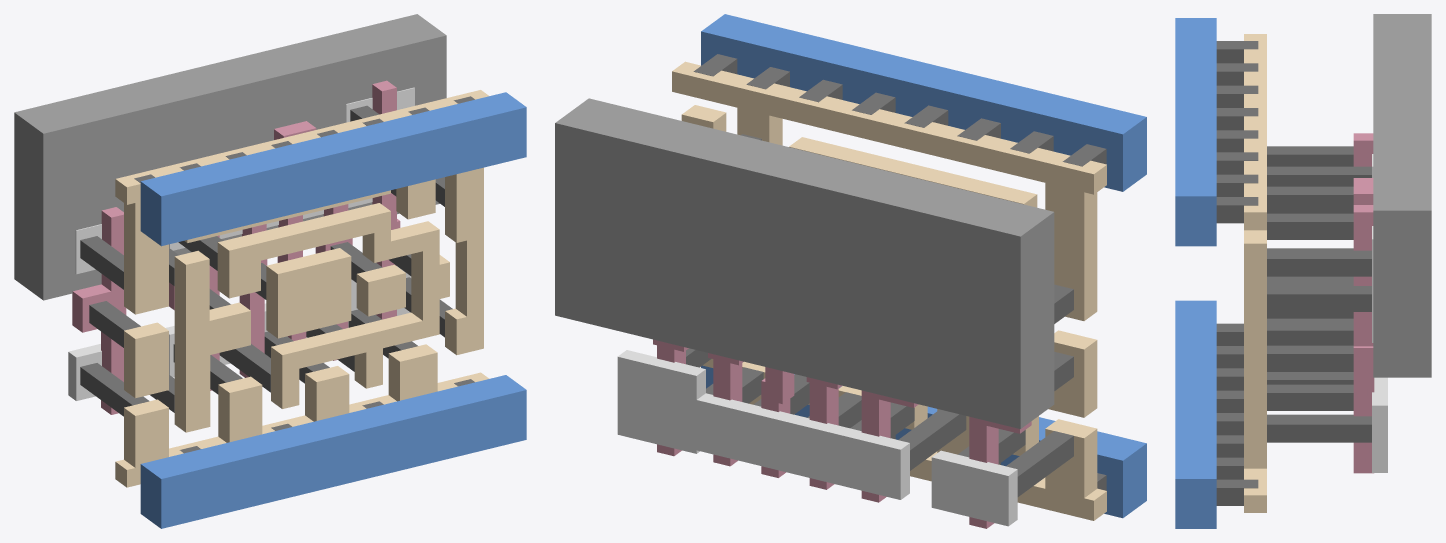
File: sky130_fd_sc_hd__or4b_1.gds.gltf
3 views of the same model, side by side, from view 1: azimuth 30°, elevation 25°; view 2: azimuth 150°, elevation 25°; view 3: azimuth 270°, elevation 25° (orthographic). The views are drawn at different scales.
Visible parts, largest first — view 1: sky130_fd_sc_hd__or4b_1_li1, sky130_fd_sc_hd__or4b_1_met1, sky130_fd_sc_hd__or4b_1_nwell, sky130_fd_sc_hd__or4b_1_licon, sky130_fd_sc_hd__or4b_1_poly, sky130_fd_sc_hd__or4b_1_diff, sky130_fd_sc_hd__or4b_1_mcon; view 2: sky130_fd_sc_hd__or4b_1_nwell, sky130_fd_sc_hd__or4b_1_li1, sky130_fd_sc_hd__or4b_1_met1, sky130_fd_sc_hd__or4b_1_diff, sky130_fd_sc_hd__or4b_1_licon, sky130_fd_sc_hd__or4b_1_poly, sky130_fd_sc_hd__or4b_1_mcon; view 3: sky130_fd_sc_hd__or4b_1_licon, sky130_fd_sc_hd__or4b_1_nwell, sky130_fd_sc_hd__or4b_1_met1, sky130_fd_sc_hd__or4b_1_mcon, sky130_fd_sc_hd__or4b_1_li1, sky130_fd_sc_hd__or4b_1_poly, sky130_fd_sc_hd__or4b_1_diff.
Part boxes in pixels (x1,y1,x2,y2): sky130_fd_sc_hd__or4b_1_li1: [115, 90, 489, 487]; sky130_fd_sc_hd__or4b_1_met1: [140, 92, 526, 528]; sky130_fd_sc_hd__or4b_1_nwell: [14, 14, 446, 300]; sky130_fd_sc_hd__or4b_1_licon: [80, 105, 452, 416]; sky130_fd_sc_hd__or4b_1_poly: [72, 80, 400, 414]; sky130_fd_sc_hd__or4b_1_diff: [68, 87, 414, 400]; sky130_fd_sc_hd__or4b_1_mcon: [134, 96, 474, 453]; sky130_fd_sc_hd__or4b_1_nwell: [555, 98, 1054, 428]; sky130_fd_sc_hd__or4b_1_li1: [672, 61, 1106, 520]; sky130_fd_sc_hd__or4b_1_met1: [701, 14, 1146, 518]; sky130_fd_sc_hd__or4b_1_diff: [617, 350, 1017, 526]; sky130_fd_sc_hd__or4b_1_licon: [686, 134, 1073, 496]; sky130_fd_sc_hd__or4b_1_poly: [653, 339, 1031, 528]; sky130_fd_sc_hd__or4b_1_mcon: [693, 54, 1106, 490]; sky130_fd_sc_hd__or4b_1_licon: [1267, 146, 1371, 442]; sky130_fd_sc_hd__or4b_1_nwell: [1373, 14, 1431, 377]; sky130_fd_sc_hd__or4b_1_met1: [1175, 18, 1216, 528]; sky130_fd_sc_hd__or4b_1_mcon: [1216, 41, 1258, 505]; sky130_fd_sc_hd__or4b_1_li1: [1244, 34, 1266, 512]; sky130_fd_sc_hd__or4b_1_poly: [1353, 133, 1374, 473]; sky130_fd_sc_hd__or4b_1_diff: [1372, 154, 1387, 472].
Size of the model in its own units: 4.06 by 3.2 by 2.24.
